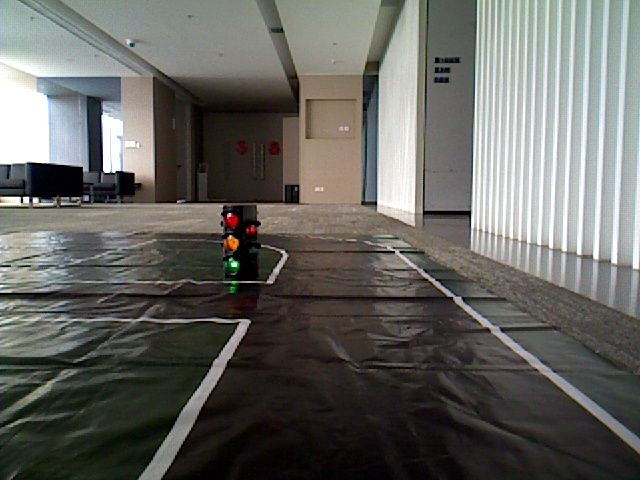green: (221, 207, 244, 269)
